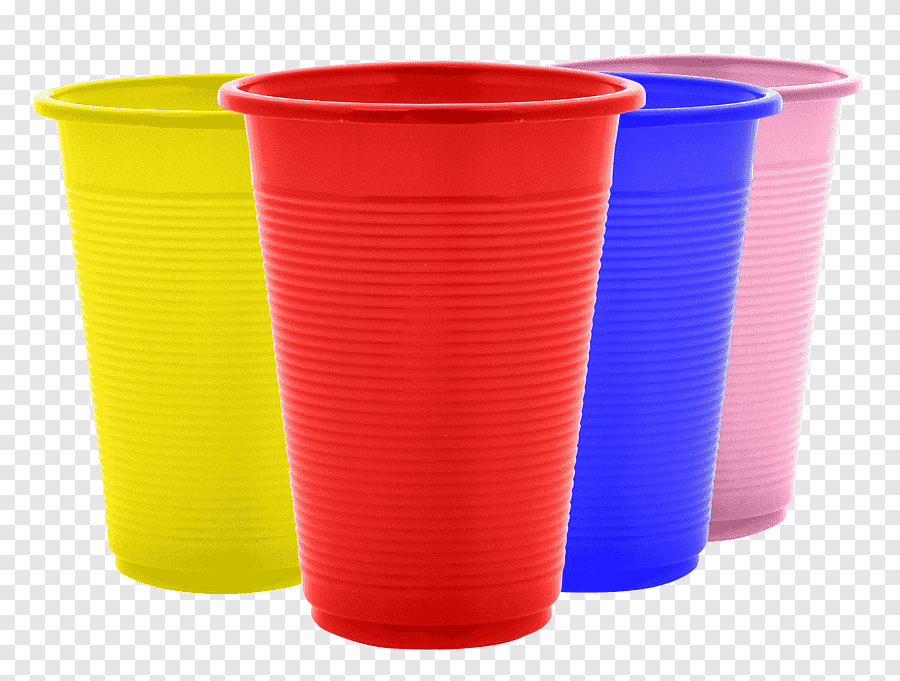plastic_bottle: (212, 56, 632, 655)
